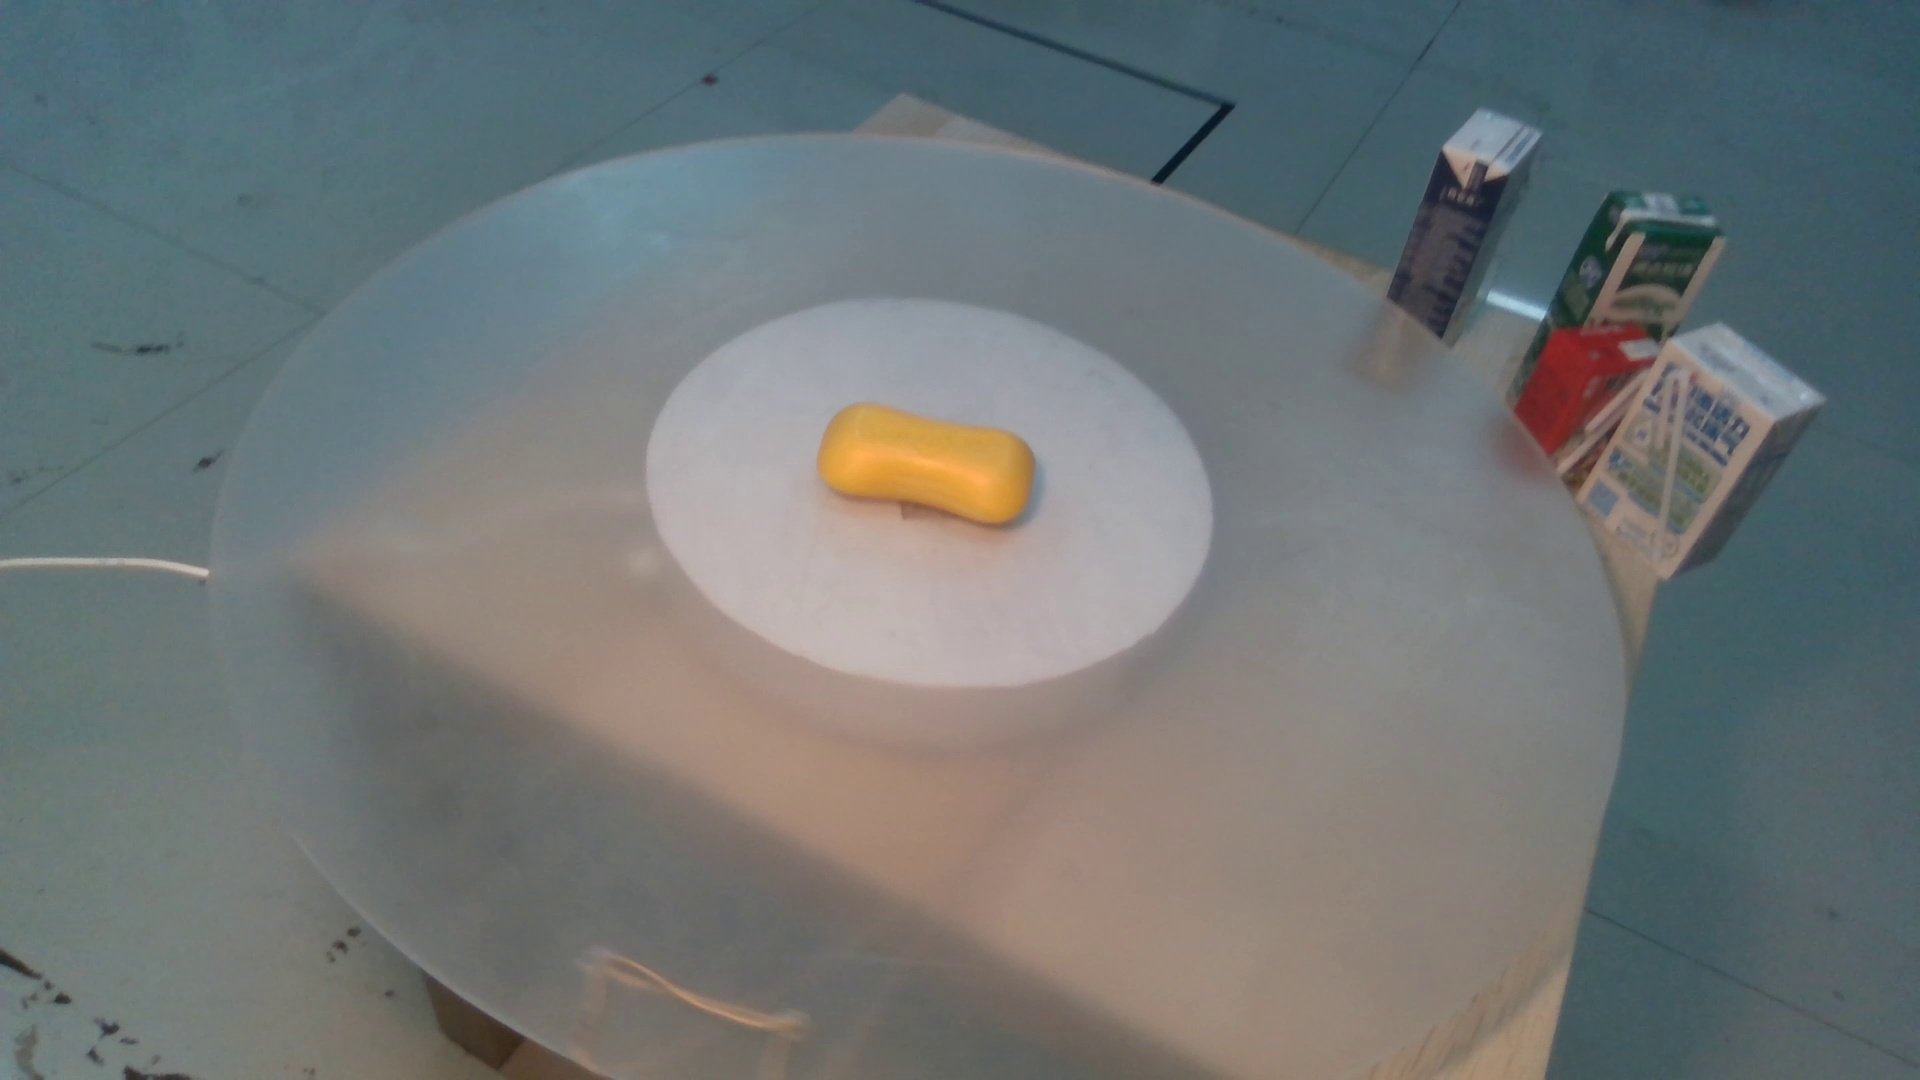CA003_1: (810, 390, 1077, 535)
